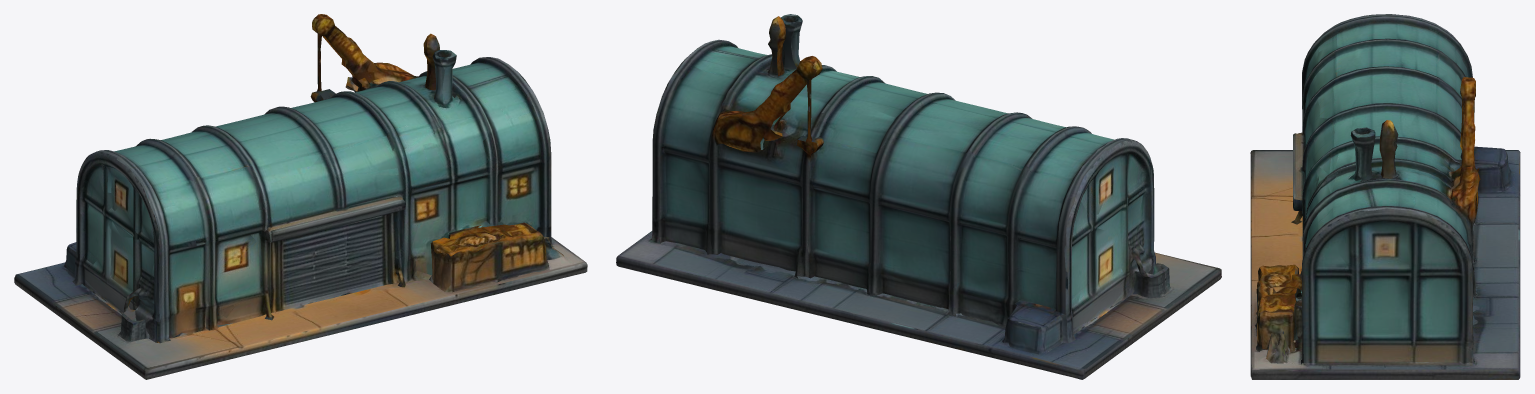
Rendered from works_hall.glb.
The picture shows the model from 3 angles, left to right: view 1: azimuth 30°, elevation 25°; view 2: azimuth 150°, elevation 25°; view 3: azimuth 270°, elevation 25°; orthographic projection. The views are drawn at different scales.
Parts seen in each view (by area): view 1: works_hall2; view 2: works_hall2; view 3: works_hall2.
Part boxes in pixels (bbox=[...]): works_hall2: bbox=[14, 14, 587, 379]; works_hall2: bbox=[616, 14, 1221, 379]; works_hall2: bbox=[1250, 14, 1520, 379].
Size of the model in its own units: 1 by 0.4712 by 0.5159.
1 material, 1 textured.
